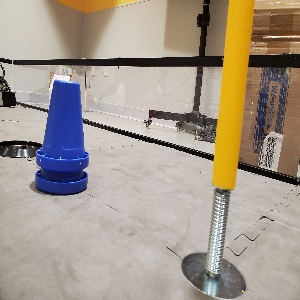Blue_2: (35, 79, 89, 195)
